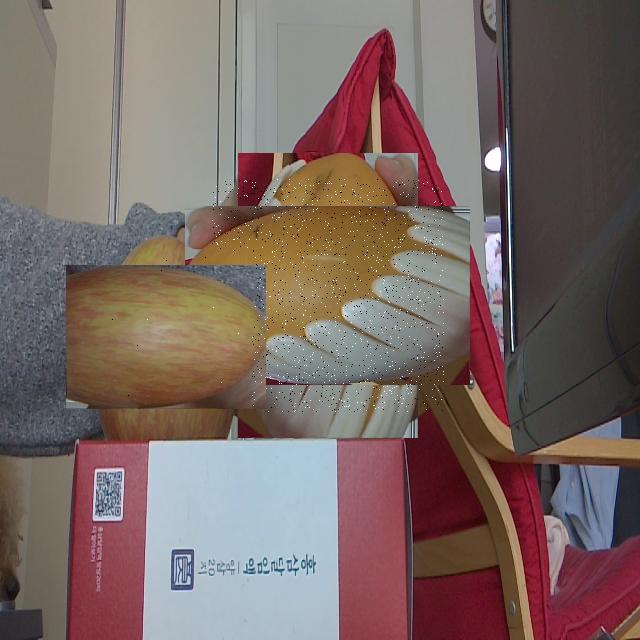apple: (80, 251, 252, 424)
pear: (212, 179, 444, 412)
